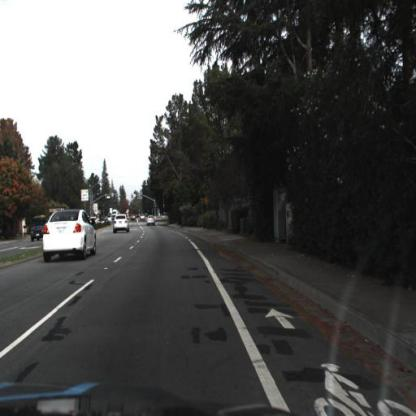car: (38, 202, 102, 266), (113, 213, 133, 237), (144, 210, 159, 231)
